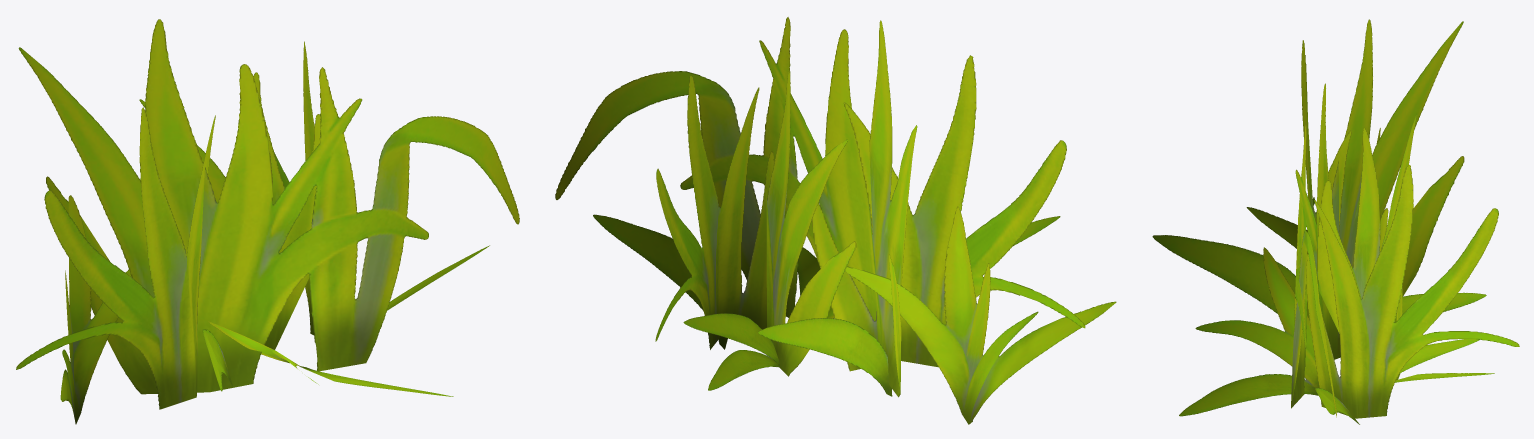
File: grasses4.fbx
The picture shows the model from 3 angles, left to right: view 1: azimuth 30°, elevation 25°; view 2: azimuth 150°, elevation 25°; view 3: azimuth 270°, elevation 25°; orthographic projection. The views are drawn at different scales.
Parts seen in each view (by area): view 1: grass04; view 2: grass04; view 3: grass04.
Boxes of the visible parts, box(x1,y1,x2,y2) form: grass04: box(16, 19, 519, 424); grass04: box(555, 17, 1116, 424); grass04: box(1152, 19, 1519, 424).
Size of the model in its own units: 44.94 by 32.11 by 30.9.
1 material, 1 textured.
